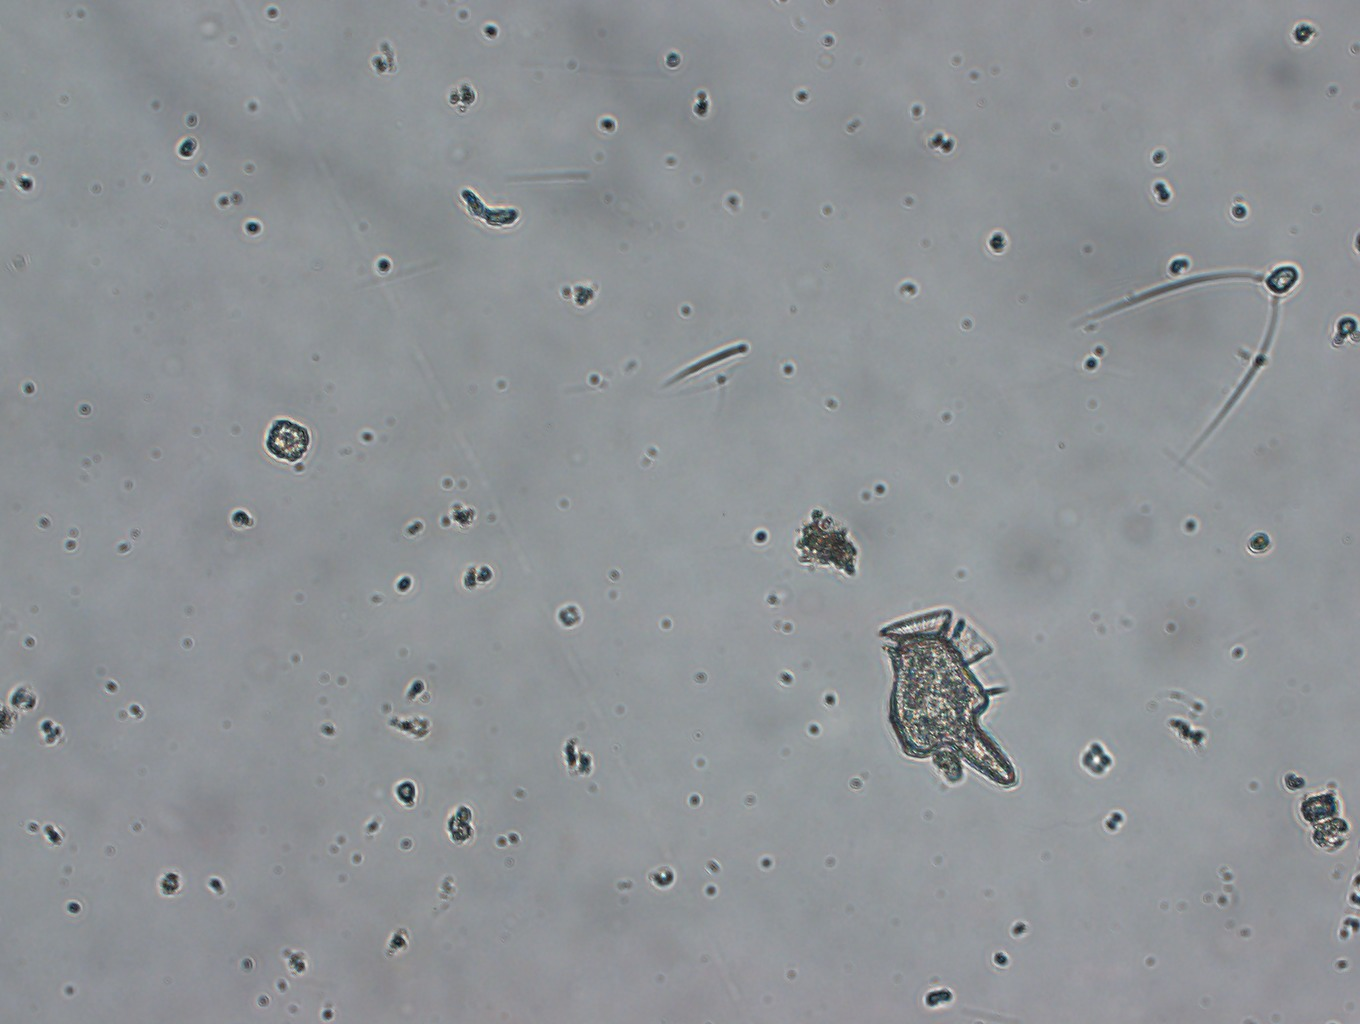dinophysis caudata: (870, 601, 1033, 795)
